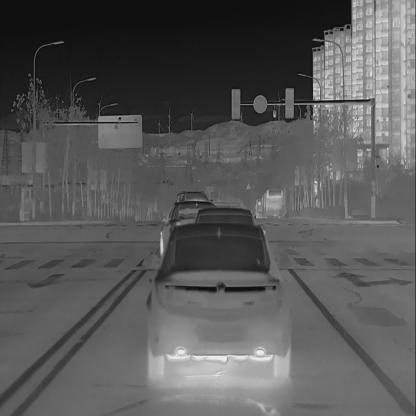bus: (260, 187, 285, 218), (252, 197, 264, 219)
car: (139, 218, 294, 394), (155, 199, 217, 262), (193, 206, 260, 236), (170, 189, 210, 207)
